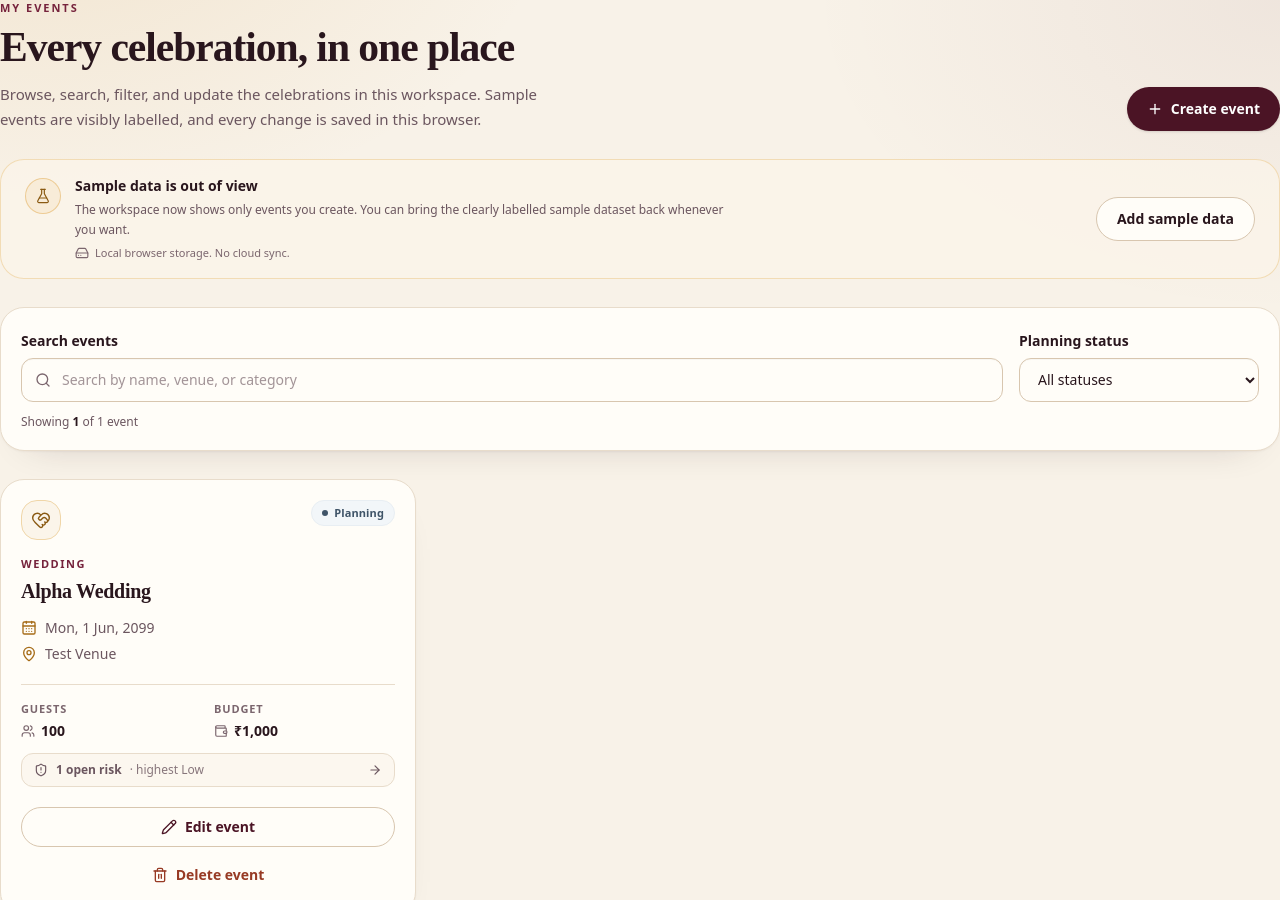
Test: EventsPage › keeps an invalid edit open without changing saved data
The image size is (1280, 900).
Click the button with aria-label "Edit Alpha Wedding" at [208, 827], box [21, 807, 395, 847]
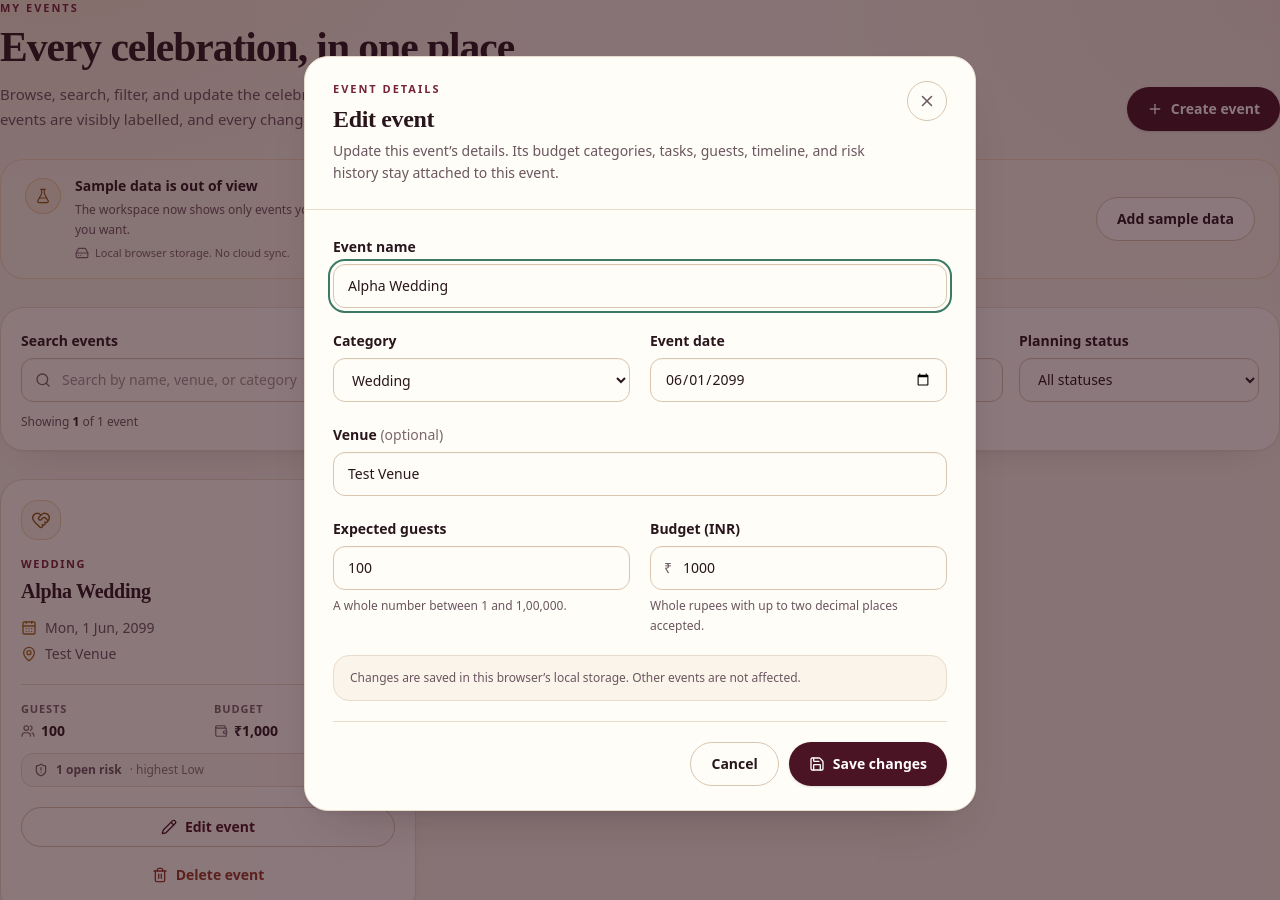
Clear the field labelled "Event name" at [640, 286], box [333, 264, 947, 308]
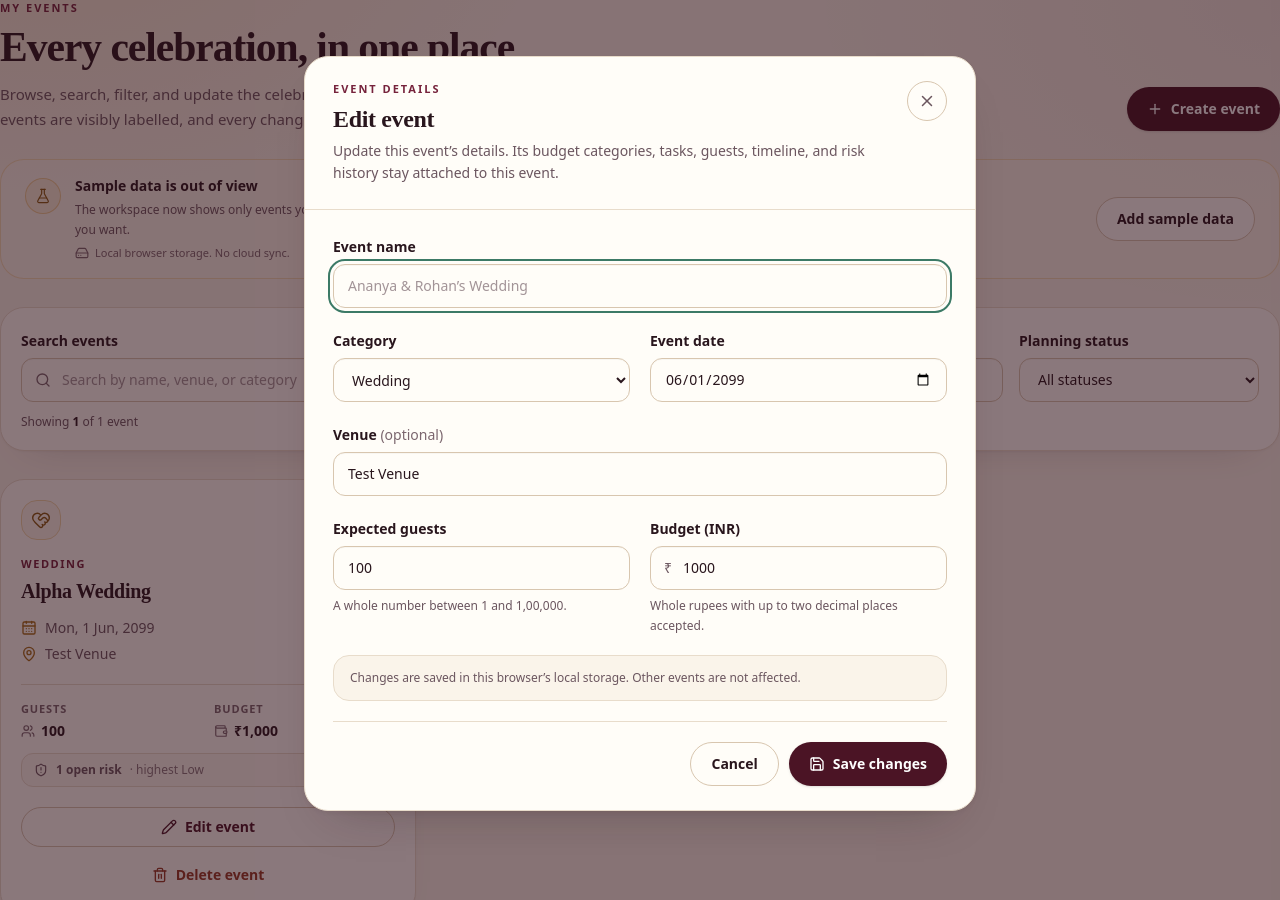
Click the button "Save changes" at [868, 764], box [789, 742, 947, 786]
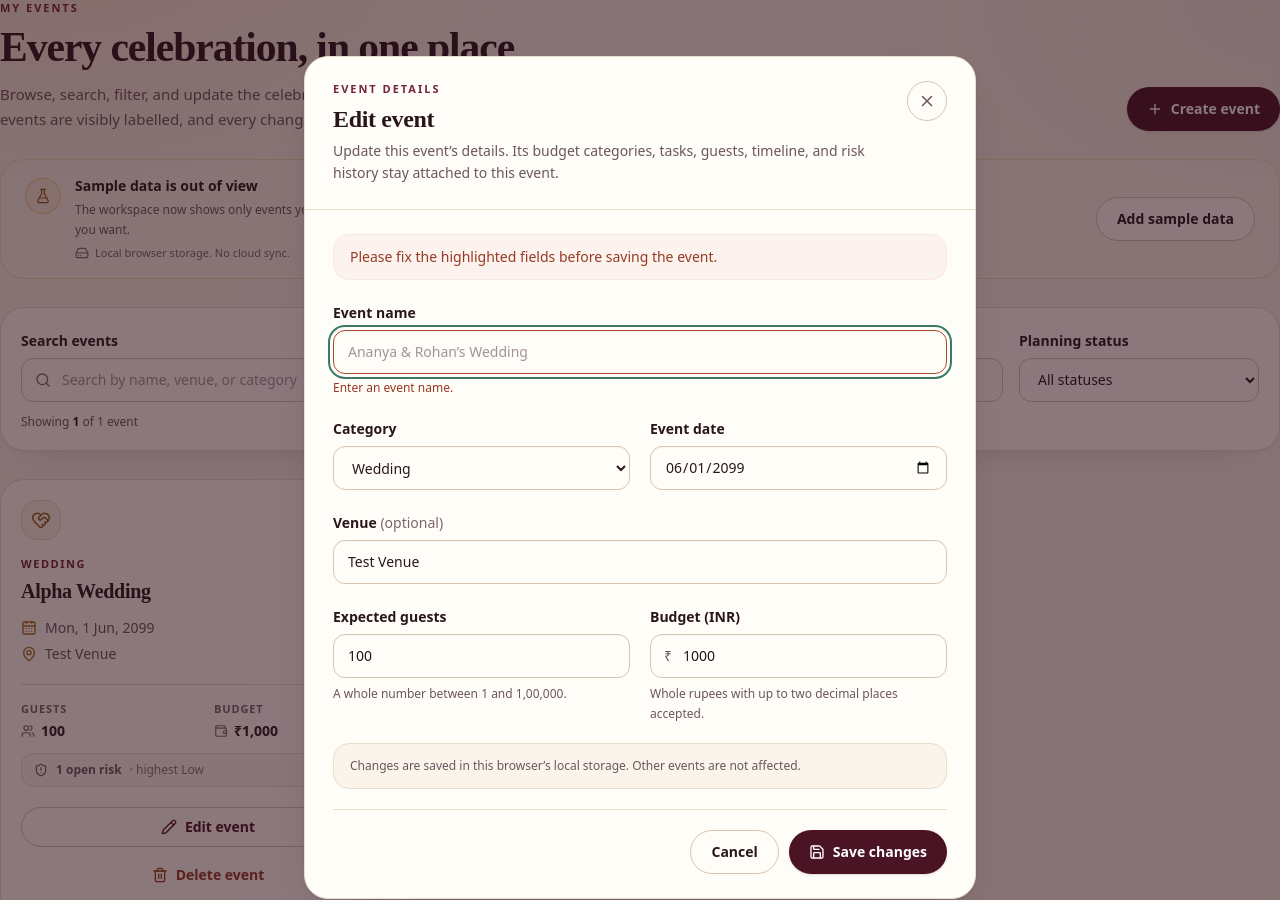
Expected: the heading "Alpha Wedding" is shown, [21, 580, 151, 602]
Expected: the heading "Edit event" is shown, [333, 106, 434, 132]
Expected: the message reads "Please fix the highlighted fields before saving the event.", [350, 247, 717, 266]
